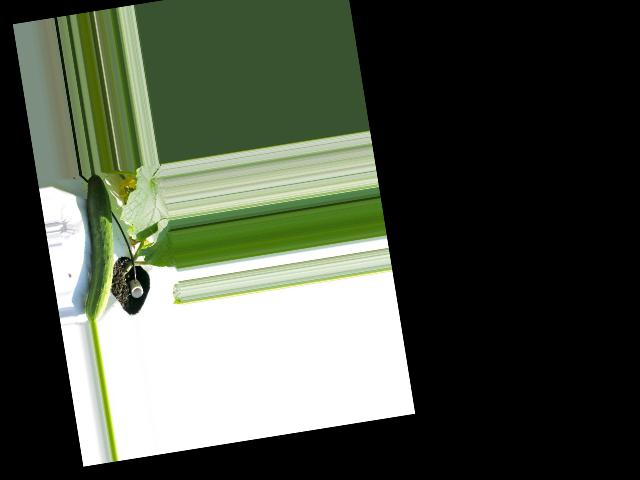cucumber: (64, 172, 128, 325)
